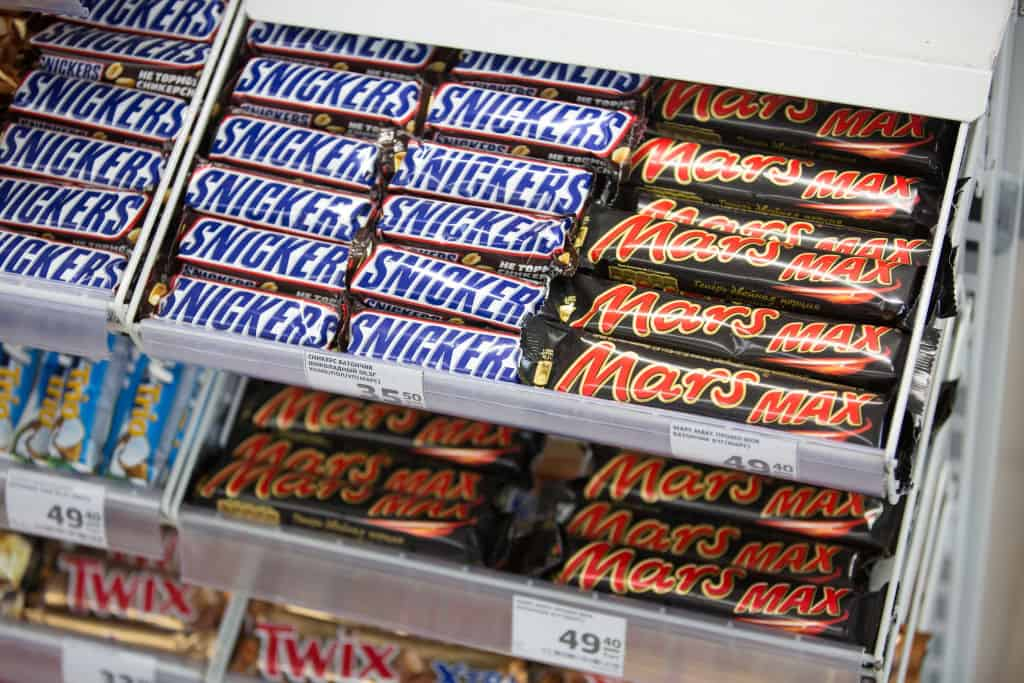snickers: (356, 245, 538, 323), (356, 247, 538, 323), (191, 163, 368, 239), (186, 166, 368, 239), (395, 146, 593, 213), (191, 166, 368, 239), (428, 86, 625, 149), (157, 277, 339, 345), (430, 86, 625, 149), (178, 213, 347, 285), (181, 213, 347, 285), (351, 311, 523, 380), (10, 67, 184, 135), (210, 115, 380, 184), (178, 217, 347, 285), (160, 282, 339, 345), (239, 56, 419, 114), (233, 59, 419, 114), (1, 125, 165, 187), (382, 196, 563, 251), (239, 59, 419, 114), (251, 14, 424, 61), (32, 17, 209, 62), (0, 179, 142, 234), (457, 47, 641, 89), (251, 19, 424, 61), (0, 230, 125, 285), (82, 1, 223, 34), (36, 52, 99, 80)
